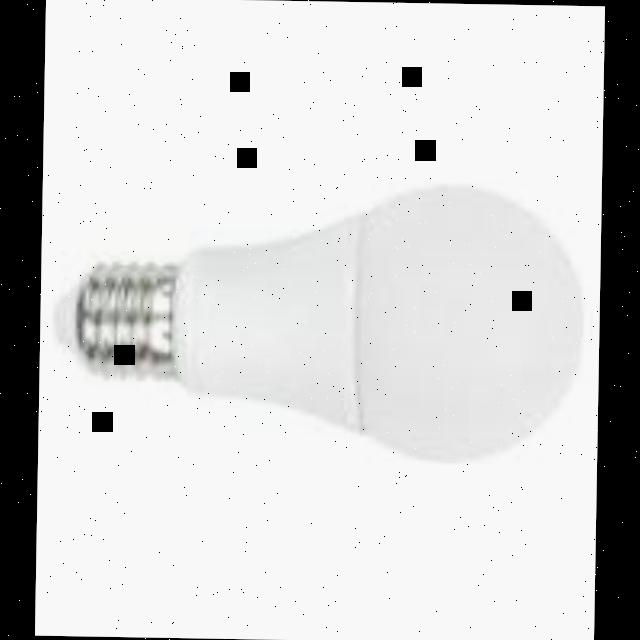light_bulb: (64, 189, 584, 481)
